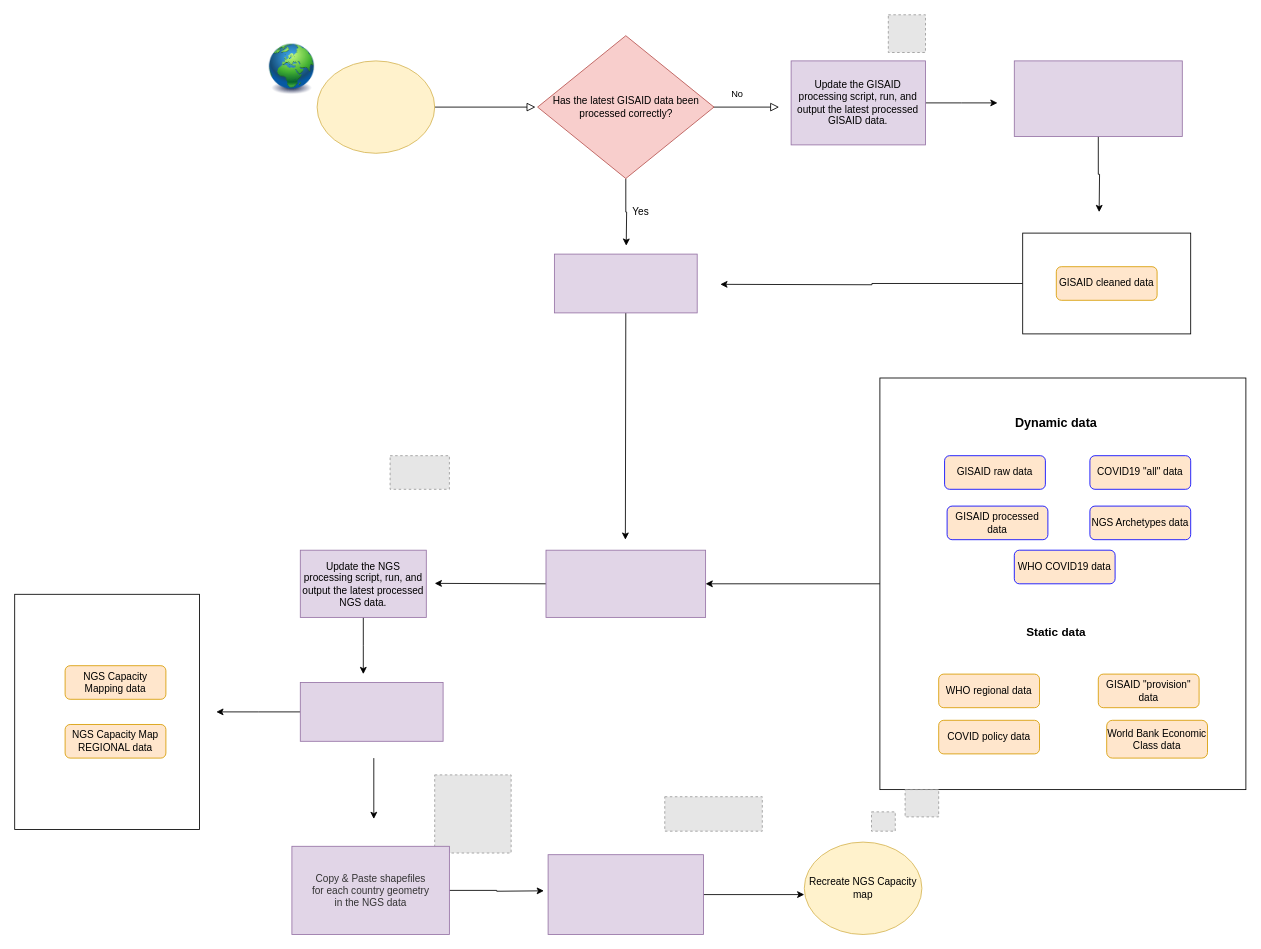
The diagram is 1261 pixels wide and 949 high, and some of its shapes have lost their labels. Grey dashed boxes stand in for pictures. Each missing label, with the centre of its shape:
Duplicate a previous NGS map & Upload NGS data into Flourish visualization tool: (625,894)
Input the following necessary datasets into the NGS map script: (625,583)
Input the latest processed GISAID data into NGS map script: (625,283)
Output Clean GISAID data: (1097,98)
Output Clean NGS data: (371,711)
Update NGS Capacity map: (375,106)
